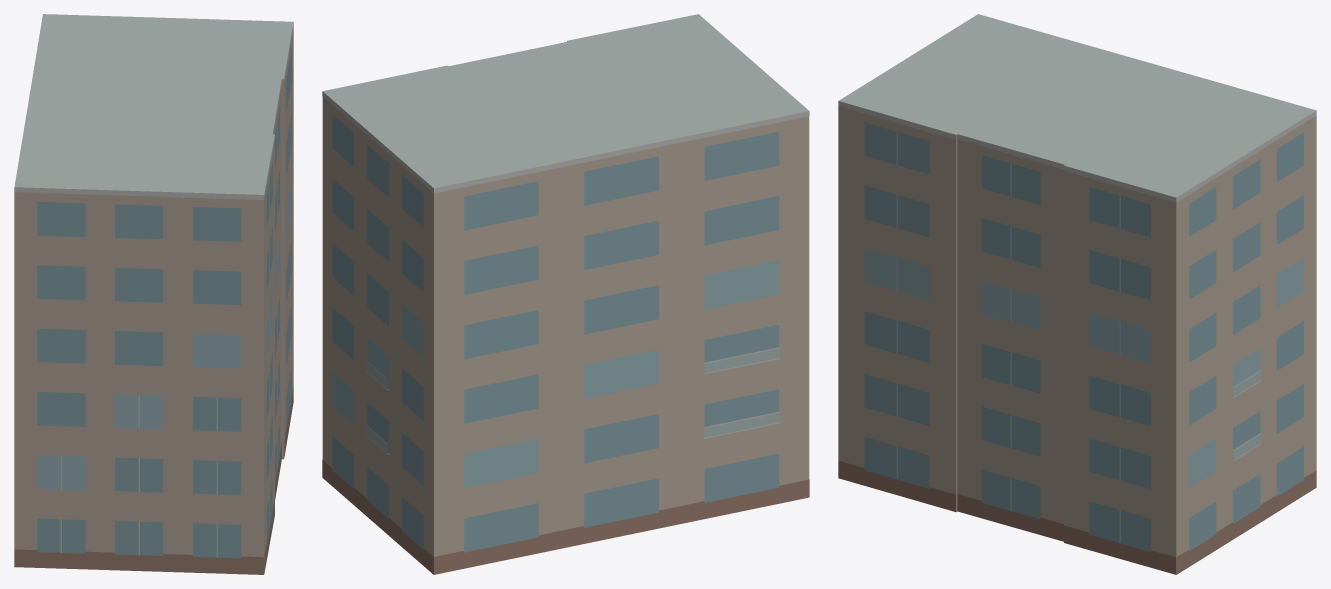
The model's file is survey-upis-32953621.glb.
3 renders of one model, left to right at view 1: azimuth 30°, elevation 25°; view 2: azimuth 150°, elevation 25°; view 3: azimuth 270°, elevation 25°, orthographic. The views are drawn at different scales.
Parts seen in each view (by area): view 1: survey-upis-32953621.tmp; view 2: survey-upis-32953621.tmp; view 3: survey-upis-32953621.tmp.
Boxes of the visible parts, x1,y1,x2,y2 form: survey-upis-32953621.tmp: (14,14,293,574); survey-upis-32953621.tmp: (322,14,809,574); survey-upis-32953621.tmp: (838,14,1316,574).
Bounding box in the file's own units: 19.11 × 18.3 × 21.03.
